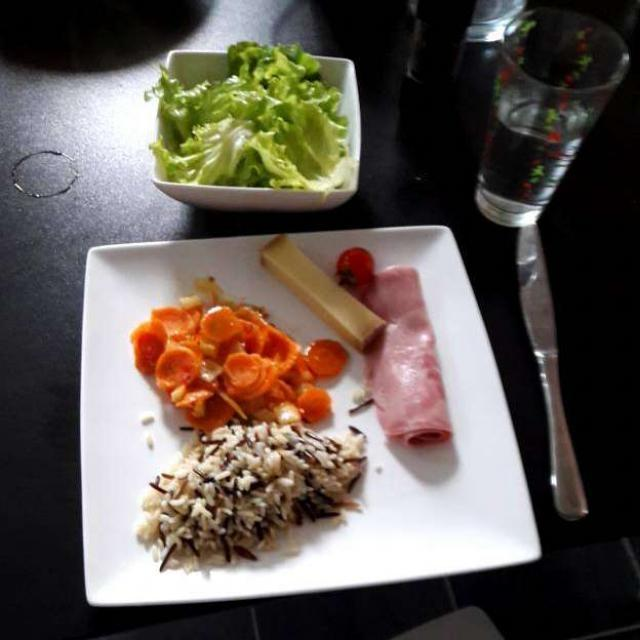carrots: (131, 283, 340, 426)
cheese: (257, 233, 393, 343)
ham: (370, 279, 449, 436)
rice: (140, 426, 369, 574)
salad: (153, 44, 349, 186)
tomato: (337, 247, 373, 284)
water: (480, 92, 593, 211)
